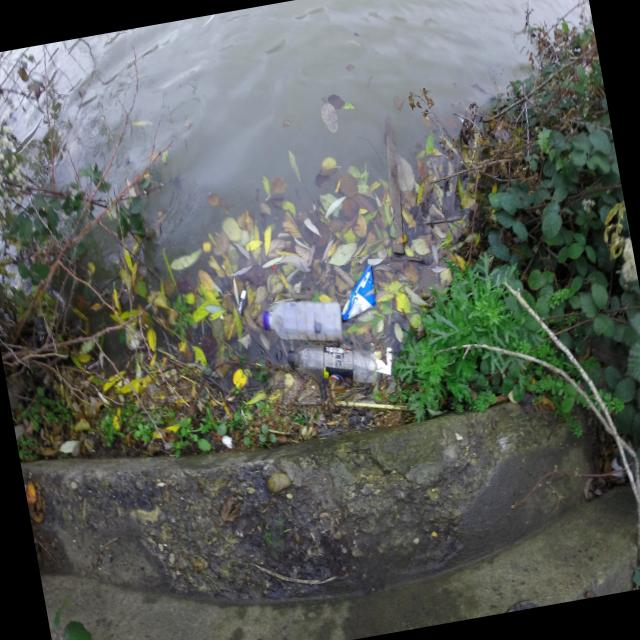less trash: (287, 345, 392, 383), (262, 300, 342, 342), (341, 264, 375, 319)
